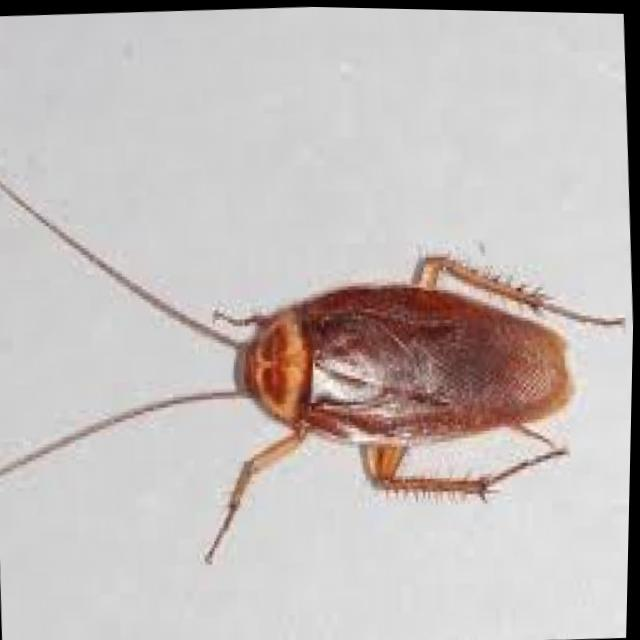Cockroach: (0, 111, 638, 595)
